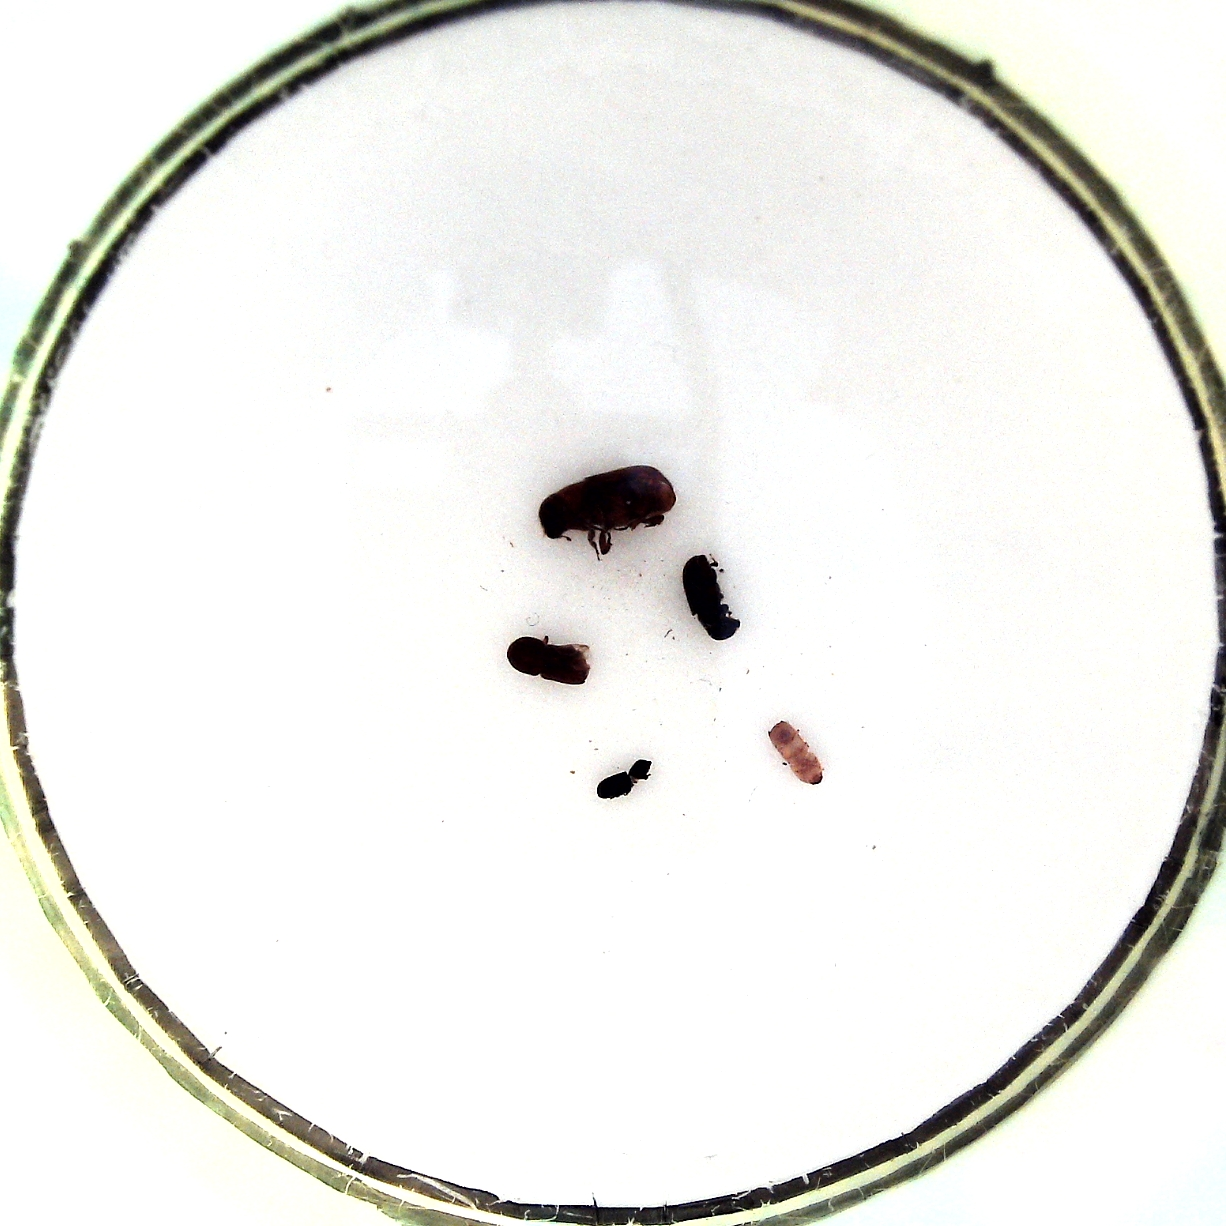Leconte: (536, 459, 678, 556)
Linnaeus: (505, 631, 595, 690)
acuminatus: (763, 715, 826, 787)
armandi: (681, 549, 745, 644)
coleoptera: (593, 754, 657, 802)
